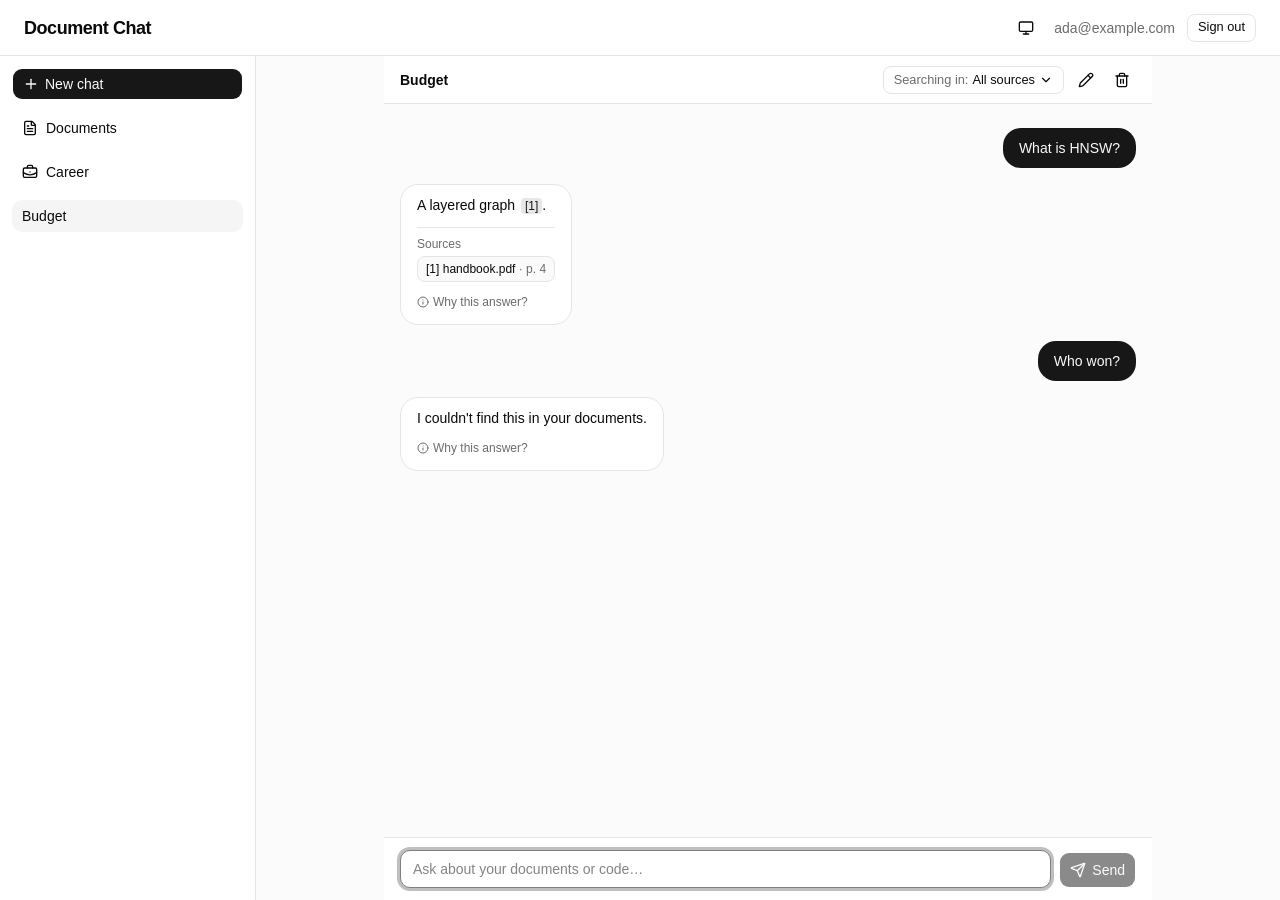
Test: the "Why this answer?" panel in the chat › shows one panel at a time, whether it is an explanation or a source
The width and height of the screenshot is (1280, 900).
Click the button "Why this answer?" below "A layered graph" at point(472, 302), box [417,290,528,314]
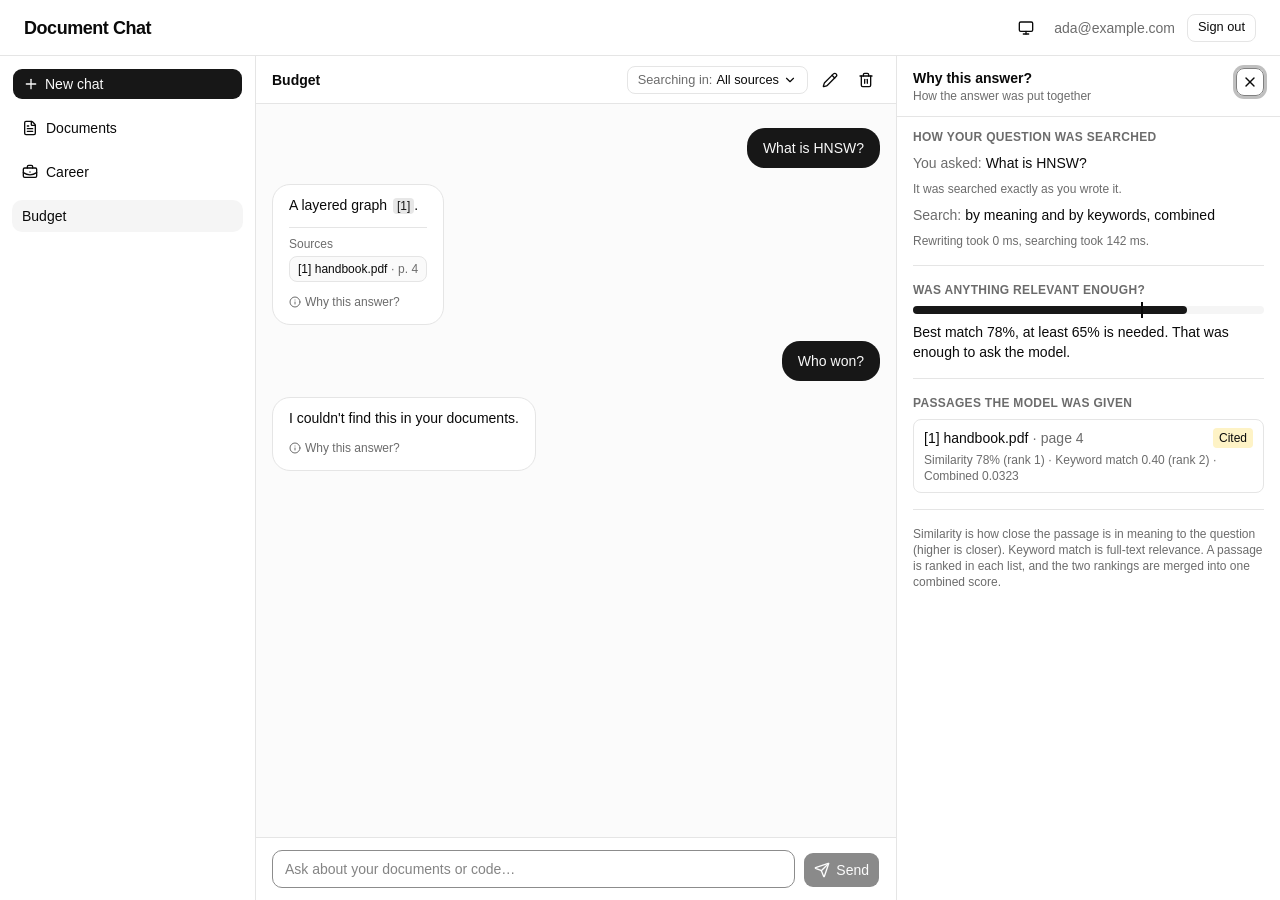
Click the button named "Source 1: handbook.pdf" at point(404, 206), box [393,198,414,214]
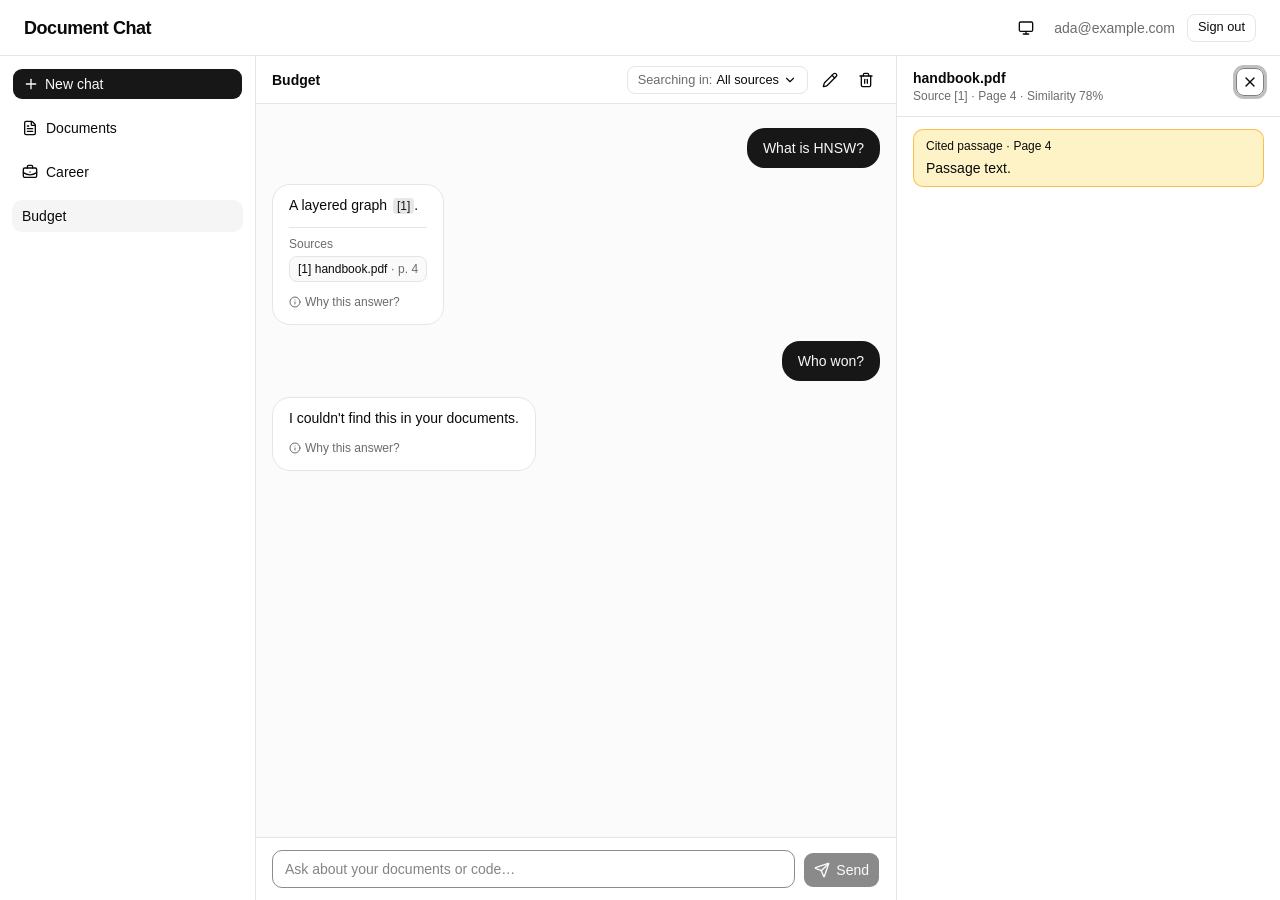
expect the element named "Source viewer" is shown: met, box [896,56,1279,899]
Click the button "Why this answer?" below "A layered graph" at point(344, 302), box [289,290,400,314]
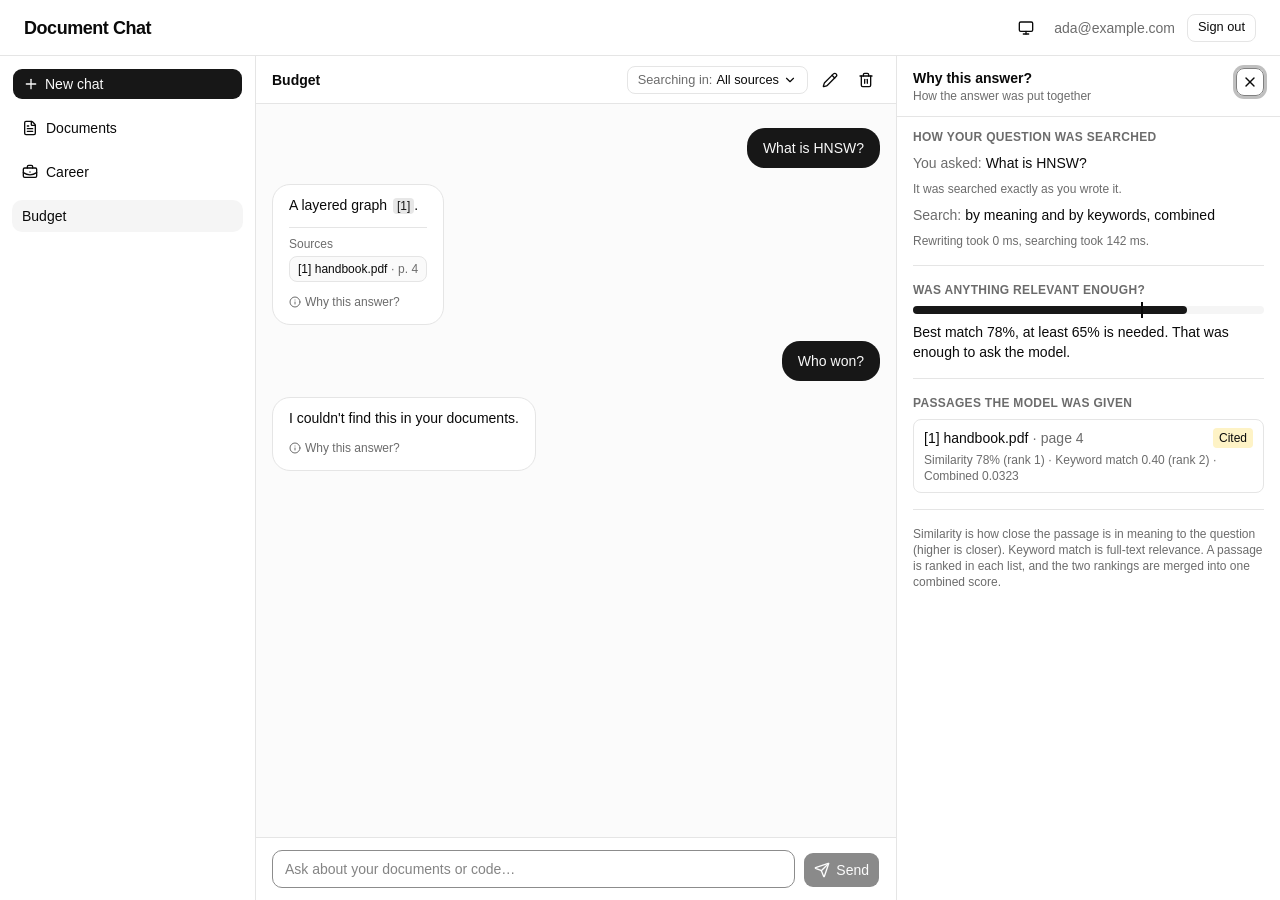
expect the element "Why this answer" is shown: met, box [896,56,1279,899]
